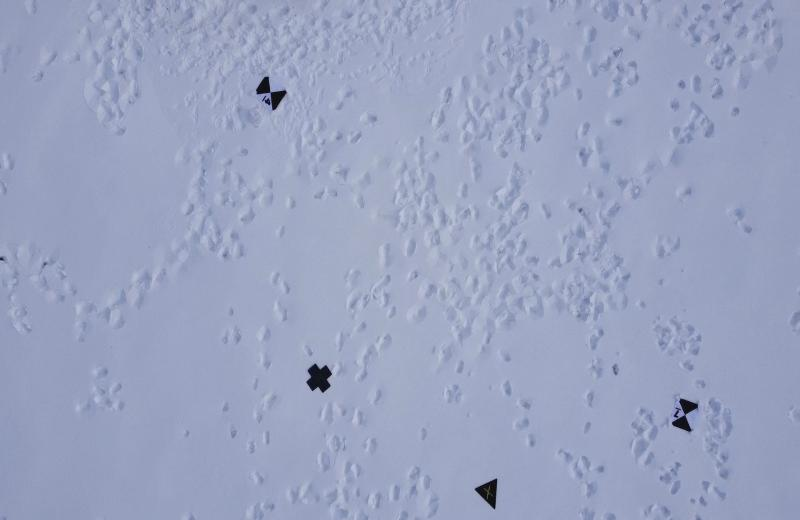Cross: (304, 363, 336, 398)
Triangle: (473, 472, 500, 512)
